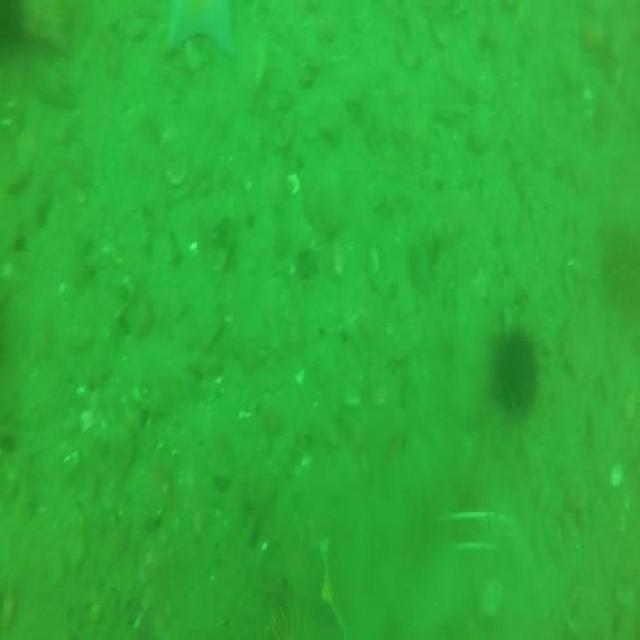echinus: (489, 334, 538, 421)
scallop: (165, 160, 188, 187), (286, 174, 300, 194), (610, 466, 623, 484)
starfish: (166, 0, 237, 58)
